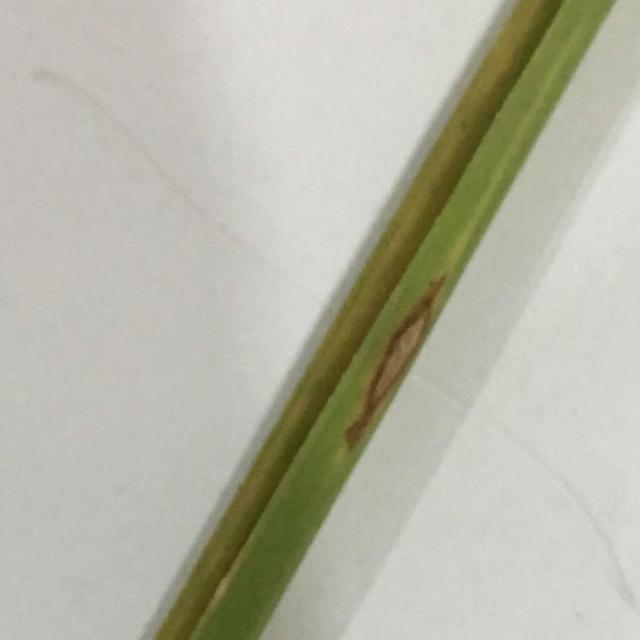Leaf blast: (130, 1, 608, 639)
